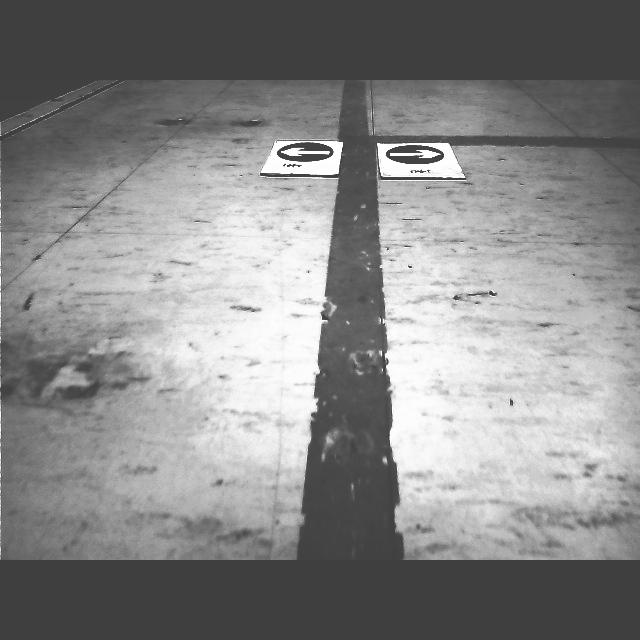TURN LEFT: (276, 142, 337, 161)
TURN RIGHT: (387, 144, 444, 163)
